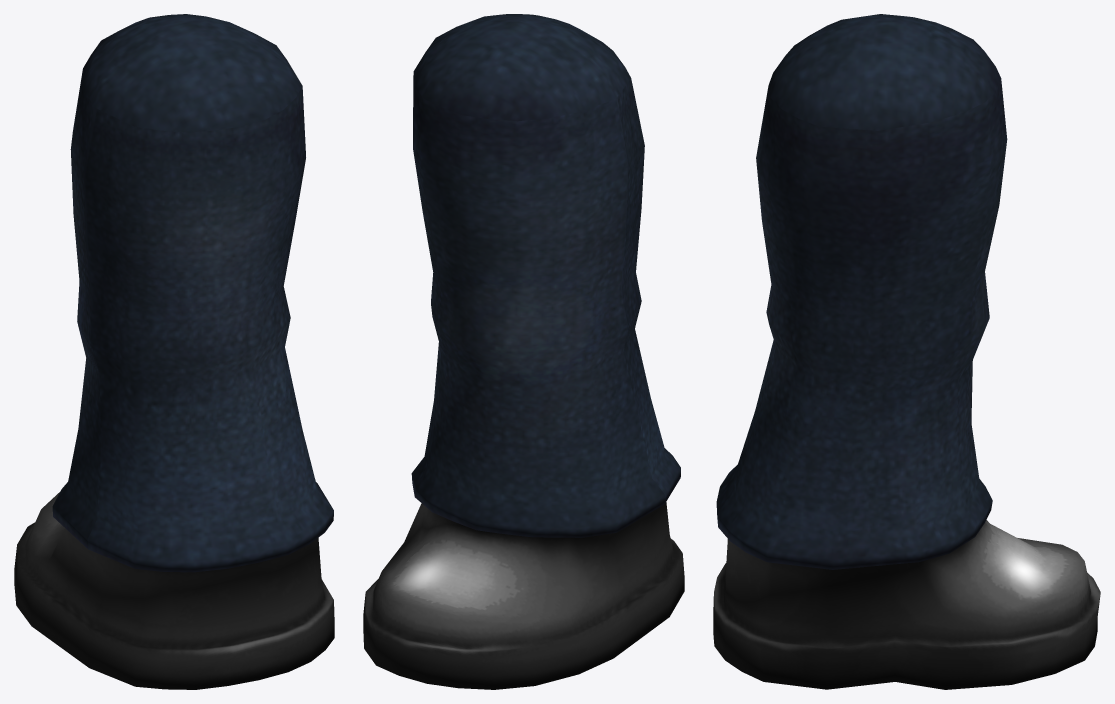
3 views of the same model, side by side, from view 1: azimuth 30°, elevation 25°; view 2: azimuth 150°, elevation 25°; view 3: azimuth 270°, elevation 25° (orthographic). The views are drawn at different scales.
Visible parts, largest first — view 1: Mesh; view 2: Mesh; view 3: Mesh.
Part boxes in pixels (left/top/right/bottom): Mesh: left=14, top=14, right=334, bottom=689; Mesh: left=363, top=14, right=684, bottom=689; Mesh: left=713, top=14, right=1100, bottom=689.
Size of the model in its own units: 0.9544 by 2.32 by 1.33.
